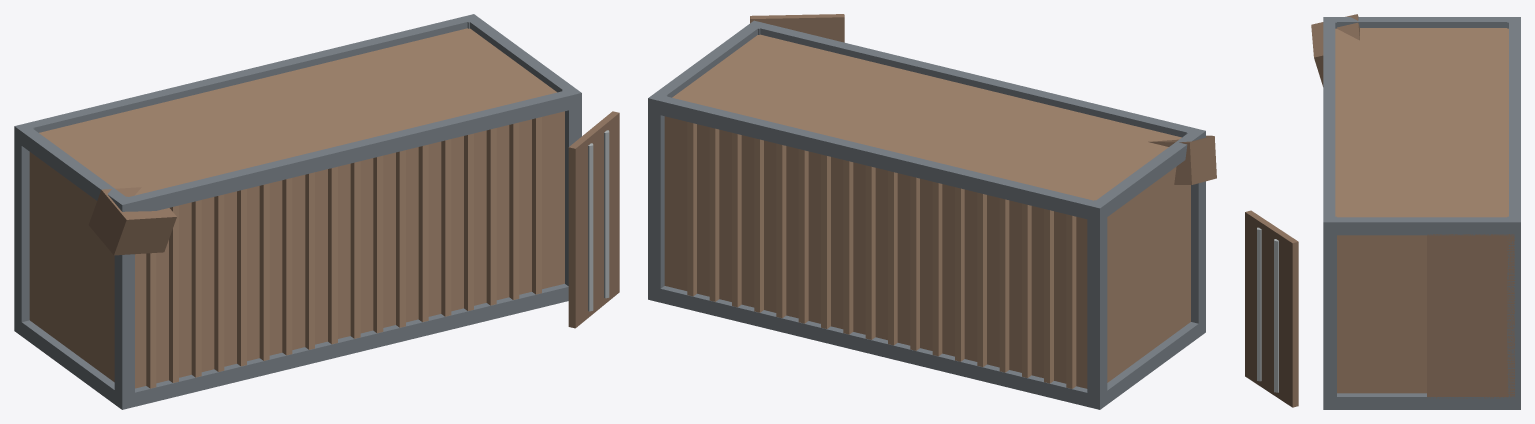
The picture shows the model from 3 angles, left to right: view 1: azimuth 30°, elevation 25°; view 2: azimuth 150°, elevation 25°; view 3: azimuth 270°, elevation 25°; orthographic projection. The views are drawn at different scales.
Visible parts, largest first — view 1: sea_cargo_container_sunk; view 2: sea_cargo_container_sunk; view 3: sea_cargo_container_sunk.
Boxes of the visible parts, box(x1,y1,x2,y2) form: sea_cargo_container_sunk: box(14, 14, 619, 409); sea_cargo_container_sunk: box(648, 14, 1216, 409); sea_cargo_container_sunk: box(1245, 14, 1520, 409).
Bounding box in the file's own units: 6.48 × 2.62 × 3.45.
